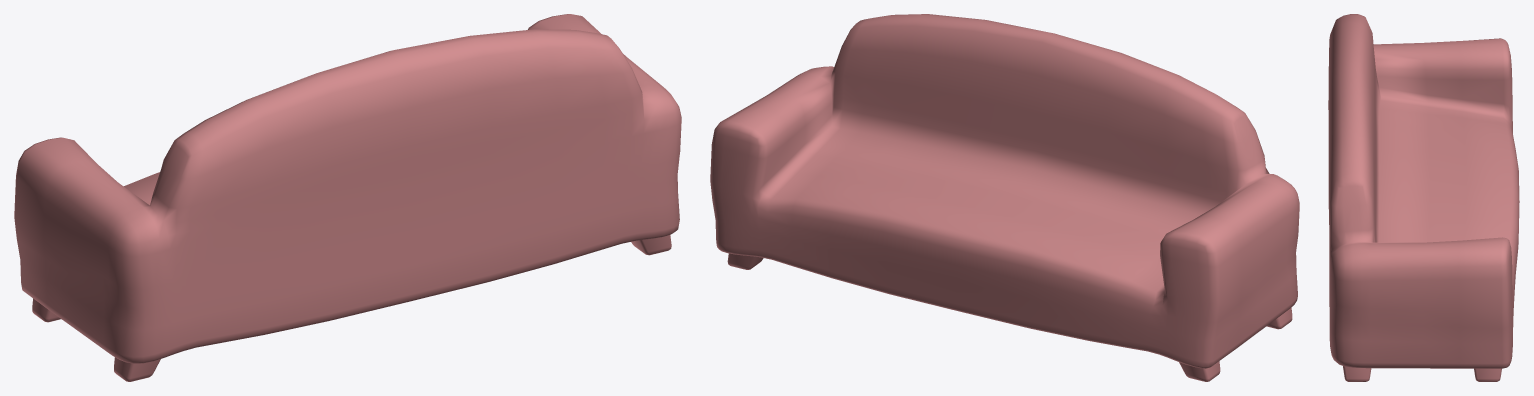
The model's file is canape.fbx.
The picture shows the model from 3 angles, left to right: view 1: azimuth 30°, elevation 25°; view 2: azimuth 150°, elevation 25°; view 3: azimuth 270°, elevation 25°; orthographic projection. The views are drawn at different scales.
Visible parts, largest first — view 1: canape; view 2: canape; view 3: canape.
Boxes of the visible parts, left/top/right/bottom form: canape: left=14, top=14, right=681, bottom=381; canape: left=710, top=14, right=1299, bottom=381; canape: left=1328, top=14, right=1519, bottom=381.
Bounding box in the file's own units: 2.05 × 0.8903 × 0.7353.
